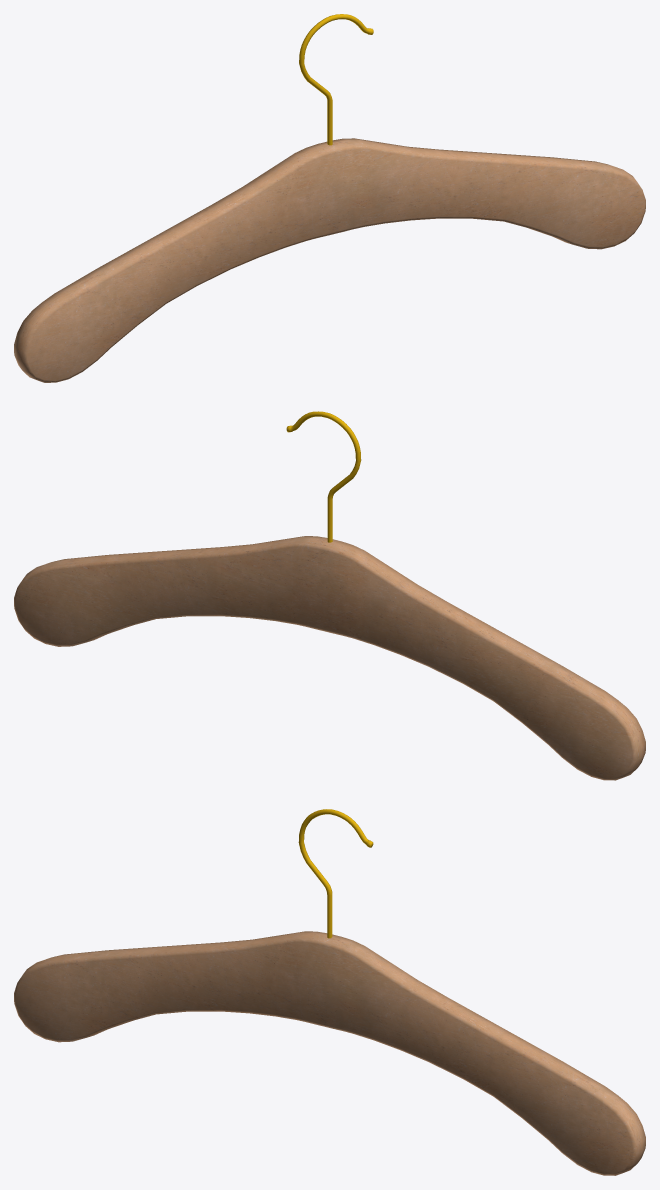
Rendered from Hanger3.fbx.
The picture shows the model from 3 angles, top to bottom: view 1: azimuth 30°, elevation 25°; view 2: azimuth 150°, elevation 25°; view 3: azimuth 330°, elevation 25°; orthographic projection.
Parts seen in each view (by area): view 1: Hanger3; view 2: Hanger3; view 3: Hanger3.
Boxes of the visible parts, x1,y1,x2,y2 form: Hanger3: [14, 14, 645, 382]; Hanger3: [14, 411, 645, 780]; Hanger3: [14, 809, 645, 1175].
Bounding box in the file's own units: 16.79 × 7.61 × 0.5542.
